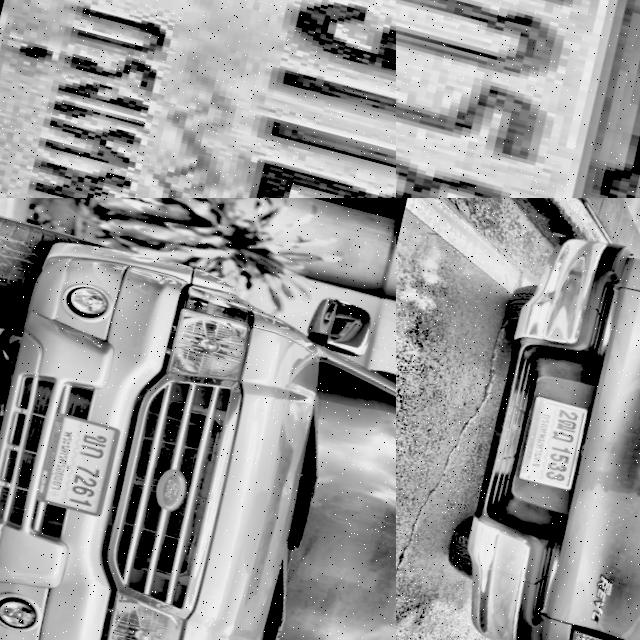license-plate: (0, 0, 396, 198), (396, 0, 640, 198), (23, 411, 121, 518), (509, 394, 589, 493)
